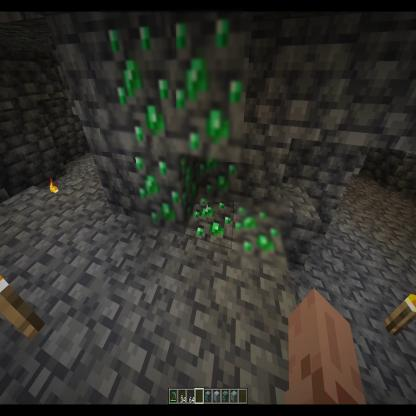emerald ore: (167, 8, 244, 162), (100, 6, 176, 152), (136, 147, 196, 231), (230, 198, 290, 268), (179, 194, 235, 252), (196, 160, 237, 202)
